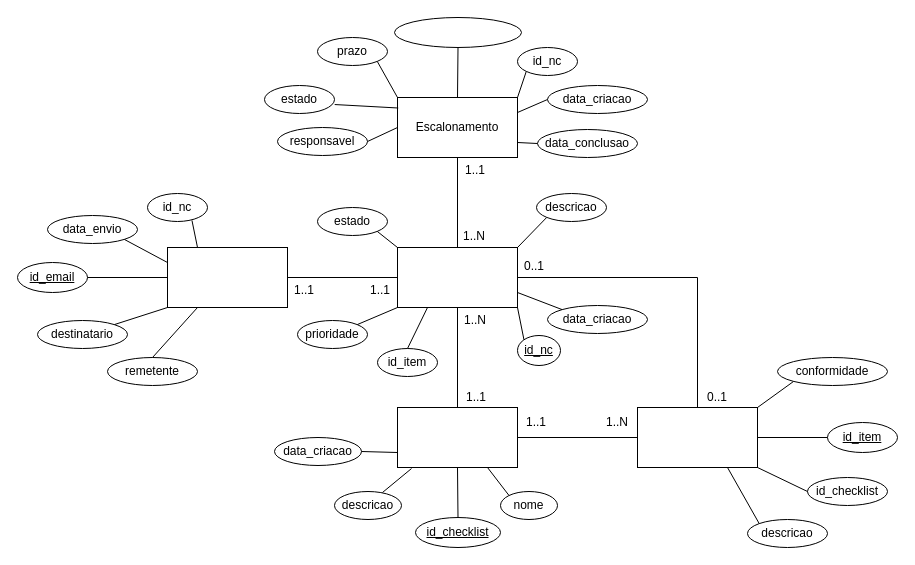
The diagram is 915 pixels wide and 565 high, and some of its shapes have lost their labels. The shapes that lost their labels are listed below. From the top down, each one's box as (x1, y1, x2, y2) in pixels, then its label:
(394, 16, 522, 48): id_escalonamento
(166, 246, 288, 308): Email
(396, 246, 518, 308): NC
(396, 406, 518, 468): Checklist
(636, 406, 758, 468): Item
